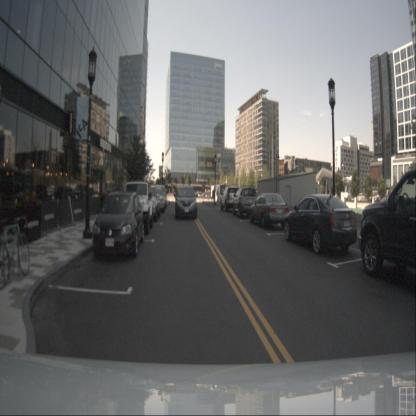human-pedestrian-adult: (212, 187, 216, 204), (216, 187, 220, 204)
vehicle-bicycle: (0, 215, 31, 291)
vehicle-car: (284, 195, 357, 254), (92, 192, 144, 258), (124, 181, 153, 235), (249, 193, 290, 229), (137, 185, 161, 221), (233, 186, 259, 218), (175, 185, 197, 219), (220, 185, 244, 211), (148, 186, 165, 212)
vehicle-truck: (360, 169, 415, 277)
